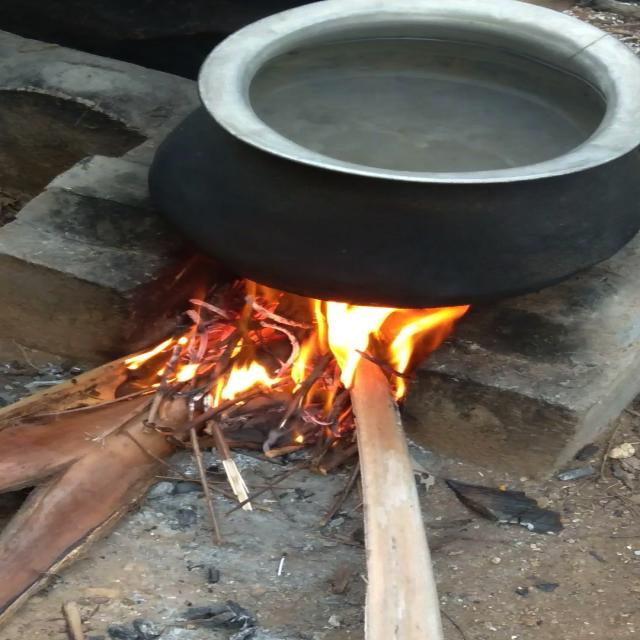fire: (158, 262, 480, 430)
